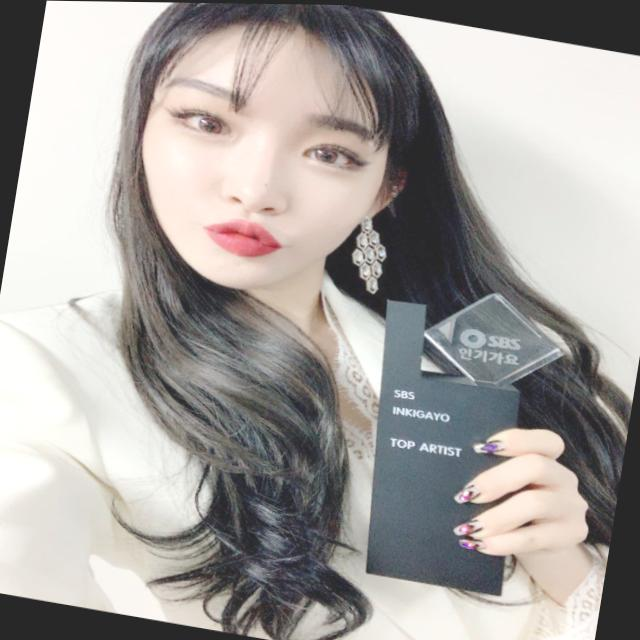face: (102, 1, 431, 312)
